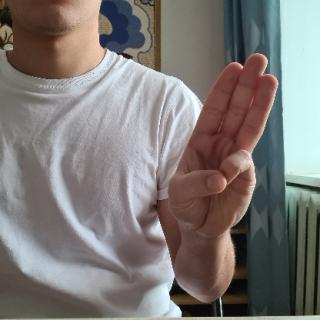THA: (167, 51, 285, 248)
